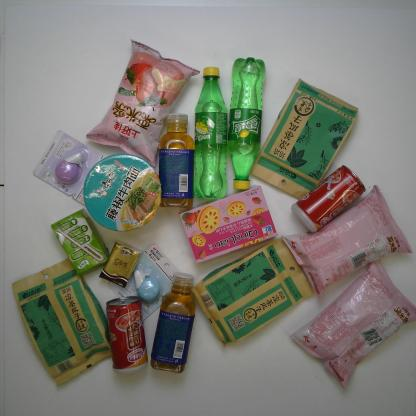Canned Food: (287, 162, 368, 235), (102, 294, 150, 378)
Dessert: (176, 182, 280, 265)
Dried Food: (186, 235, 315, 351), (249, 75, 361, 201), (8, 256, 114, 388)
Drink: (224, 53, 268, 194), (148, 270, 198, 374), (192, 65, 230, 201), (156, 108, 195, 210)
Instant Noodles: (80, 151, 164, 232)
Milk: (48, 206, 110, 279)
Puffed Food: (286, 257, 416, 391), (279, 182, 414, 302), (83, 37, 201, 168)
Stationery: (31, 128, 108, 208), (107, 242, 183, 323)
Tissue: (95, 238, 144, 289)
